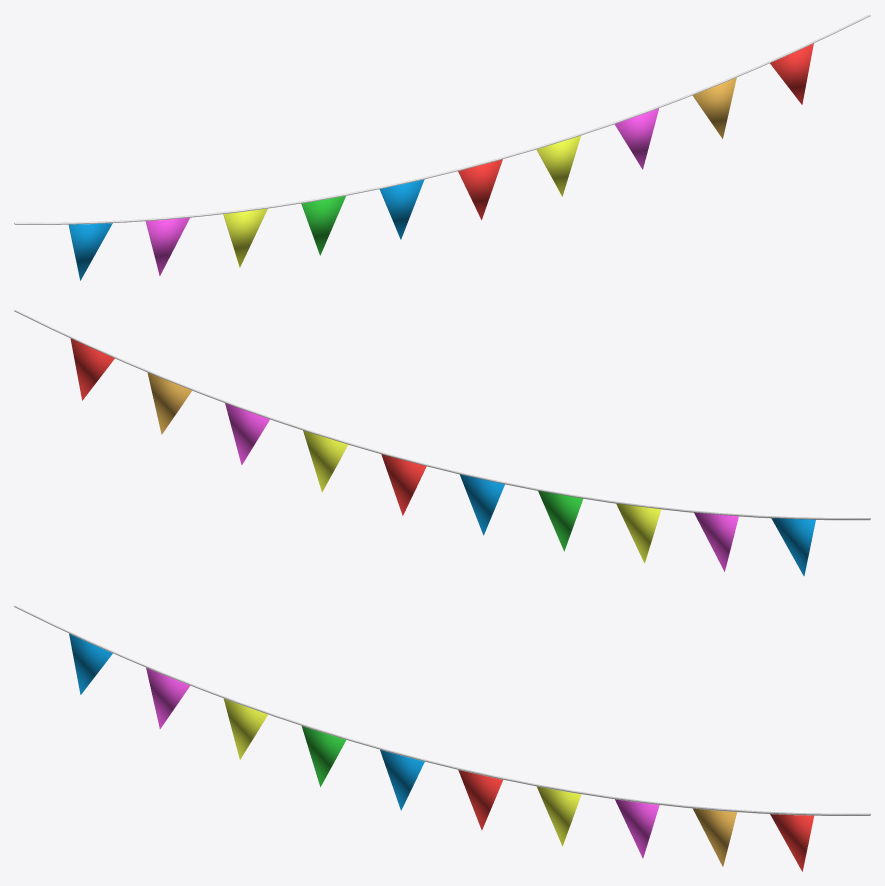
Rendered from BuntingFlagLong.fbx.
3 renders of one model, top to bottom at view 1: azimuth 30°, elevation 25°; view 2: azimuth 150°, elevation 25°; view 3: azimuth 330°, elevation 25°, orthographic.
Parts seen in each view (by area): view 1: BuntingFlagLong_Geo; view 2: BuntingFlagLong_Geo; view 3: BuntingFlagLong_Geo.
Boxes of the visible parts, <box> form: BuntingFlagLong_Geo: <box>14,14,870,280</box>; BuntingFlagLong_Geo: <box>14,309,870,575</box>; BuntingFlagLong_Geo: <box>14,605,870,871</box>.
Size of the model in its own units: 2736 by 341 by 6.95.
